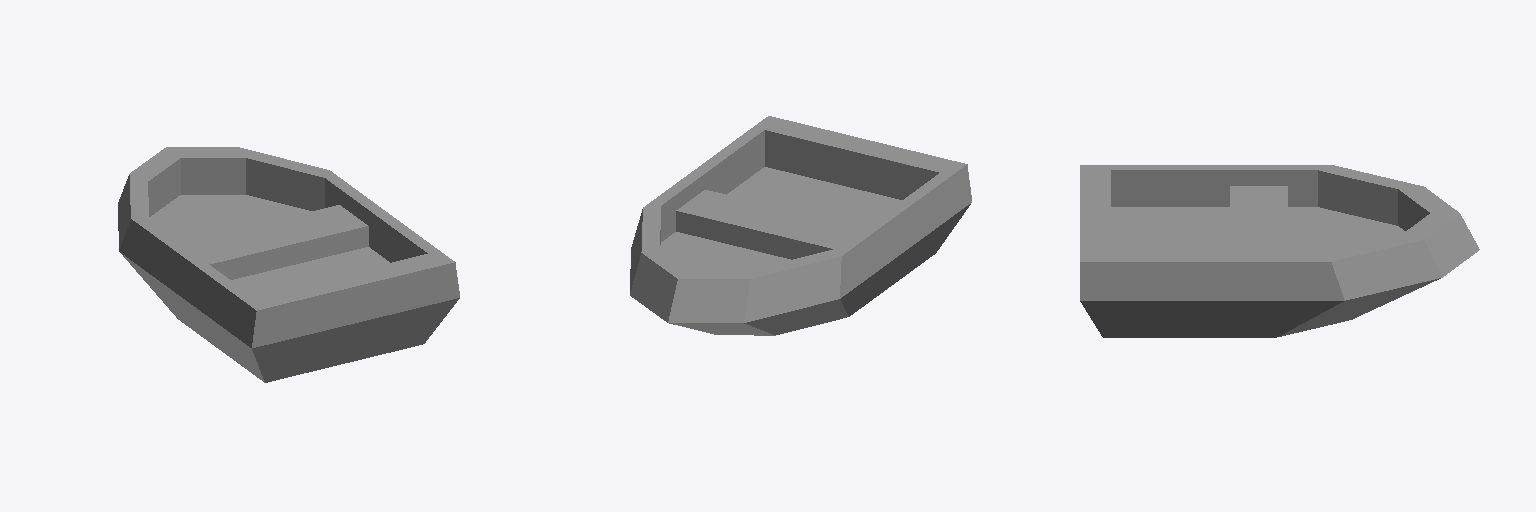
The model's file is boat_small.obj.
3 renders of one model, left to right at view 1: azimuth 30°, elevation 25°; view 2: azimuth 150°, elevation 25°; view 3: azimuth 270°, elevation 25°, orthographic.
Visible parts, largest first — view 1: boat_small; view 2: boat_small; view 3: boat_small.
Part boxes in pixels (left/top/right/bottom): boat_small: left=118, top=147, right=459, bottom=382; boat_small: left=630, top=116, right=971, bottom=335; boat_small: left=1080, top=165, right=1479, bottom=337.
Bounding box in the file's own units: 8.93 × 3.5 × 14.83.